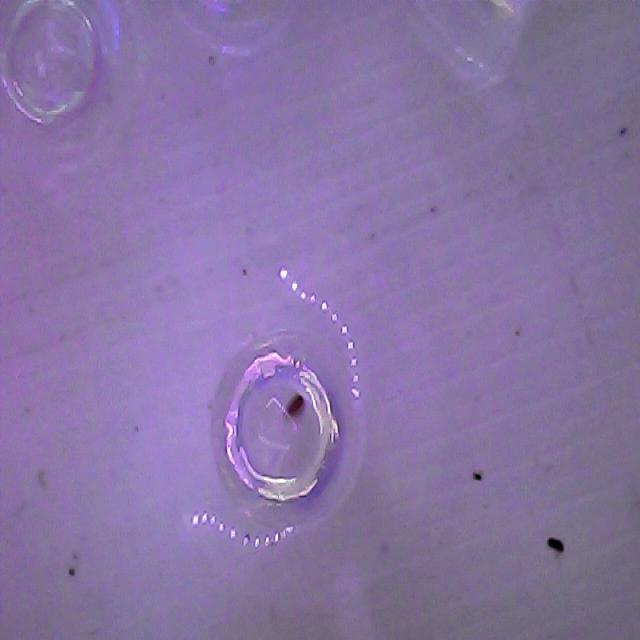beads: (184, 283, 392, 568)
